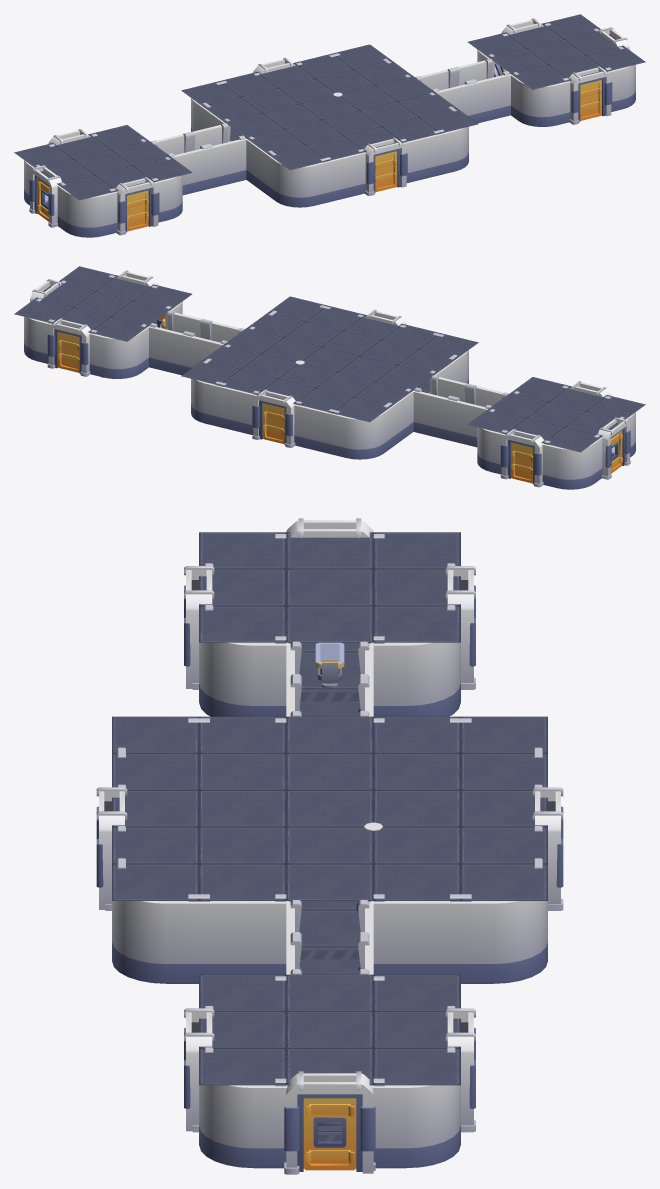
File: room.glb
3 renders of one model, top to bottom at view 1: azimuth 30°, elevation 25°; view 2: azimuth 150°, elevation 25°; view 3: azimuth 270°, elevation 25°, orthographic. The views are drawn at different scales.
Visible parts, largest first — view 1: room-large; view 2: room-large, door; view 3: room-large, door, computer-wide.
Part boxes in pixels (x1=…): room-large: x1=14, y1=14, x2=645, y2=237; room-large: x1=14, y1=266, x2=645, y2=489; door: x1=262, y1=403, x2=284, y2=444; room-large: x1=96, y1=518, x2=563, y2=1174; door: x1=303, y1=1098, x2=356, y2=1170; computer-wide: x1=289, y1=642, x2=344, y2=1125.
Size of the model in its own units: 61.4 by 4.62 by 21.4.
2 materials, 2 textured.
